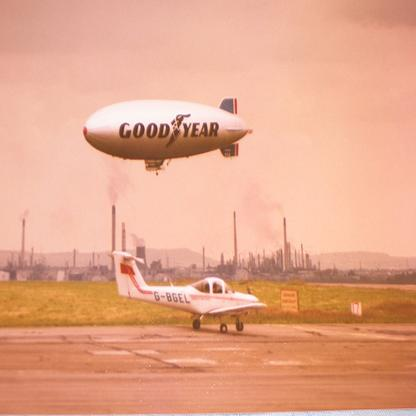Airship: (82, 95, 254, 172)
